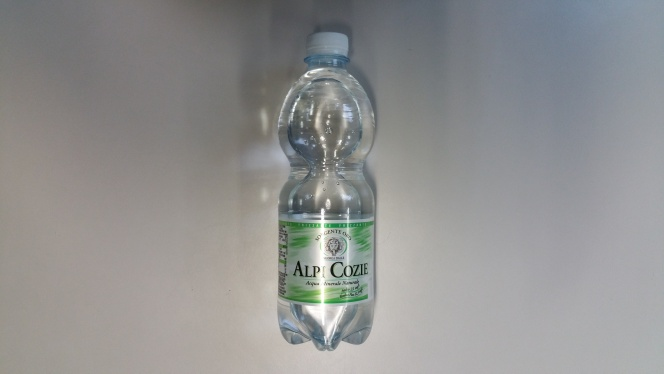bottle: (270, 32, 383, 351)
